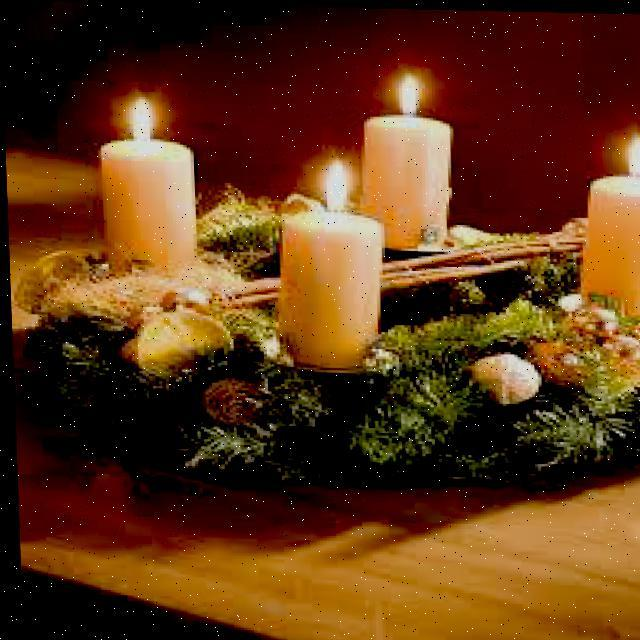Fire: (121, 88, 172, 146), (318, 152, 356, 216), (394, 61, 432, 121), (613, 124, 639, 172)
